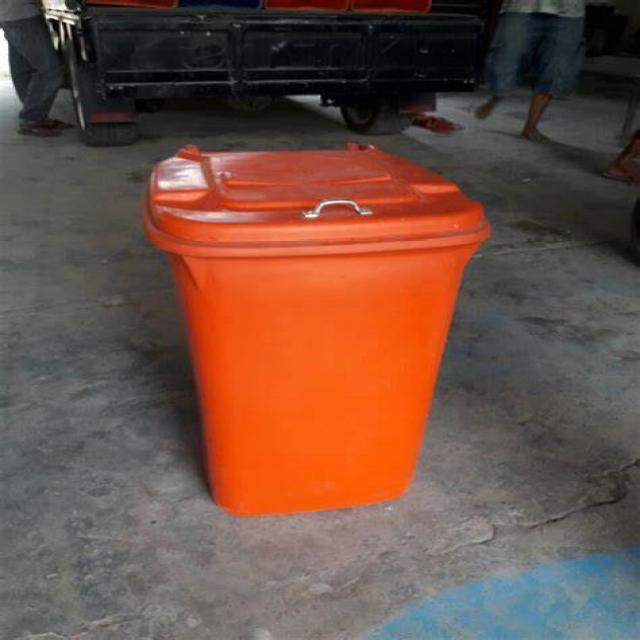garbage container: (126, 124, 522, 528)
